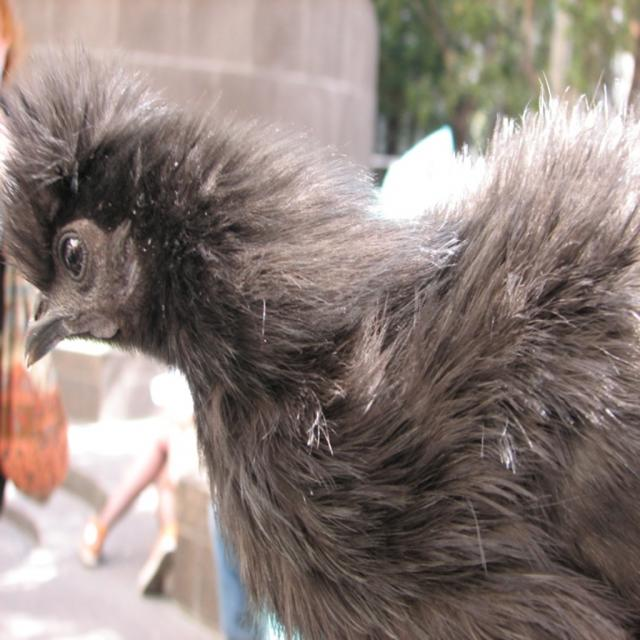Chicken: (17, 58, 609, 634)
